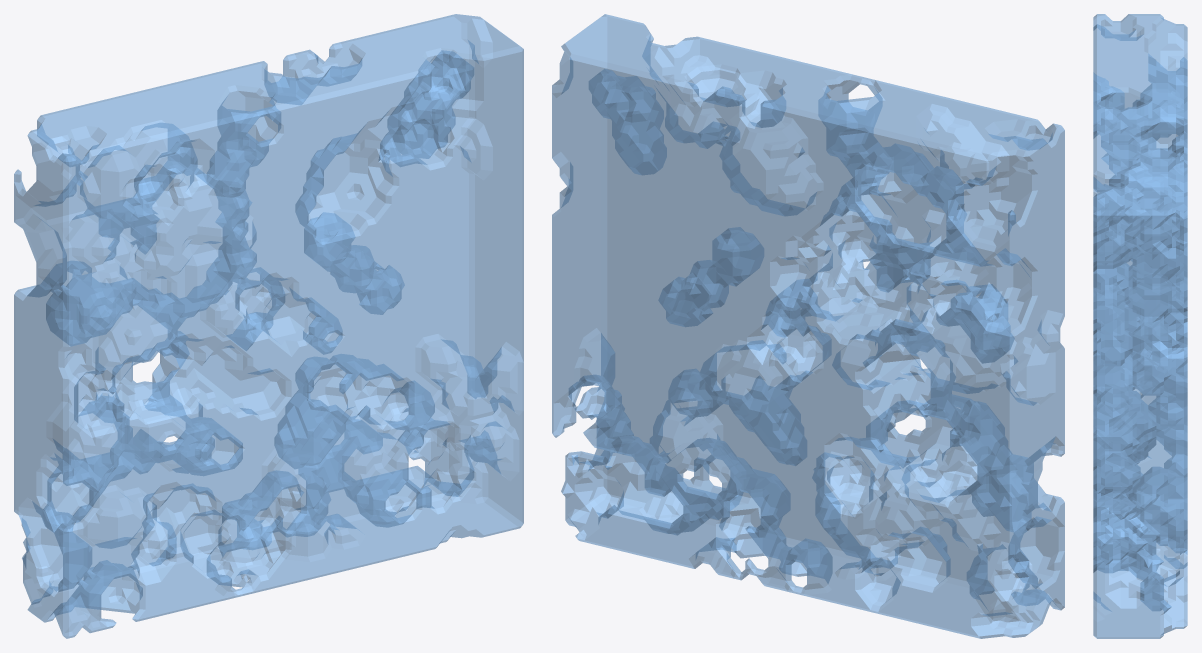
File: v2-A01-dispersed-worms.glb
3 renders of one model, left to right at view 1: azimuth 30°, elevation 25°; view 2: azimuth 150°, elevation 25°; view 3: azimuth 270°, elevation 25°, orthographic. The views are drawn at different scales.
Parts seen in each view (by area): view 1: SEMICONDUCTOR_SOLID_TARGET; view 2: SEMICONDUCTOR_SOLID_TARGET; view 3: SEMICONDUCTOR_SOLID_TARGET.
Part boxes in pixels (<box>): SEMICONDUCTOR_SOLID_TARGET: <box>14,14,523,638</box>; SEMICONDUCTOR_SOLID_TARGET: <box>552,14,1064,638</box>; SEMICONDUCTOR_SOLID_TARGET: <box>1093,14,1187,638</box>.
Bounding box in the file's own units: 30000 × 30000 × 6000.
